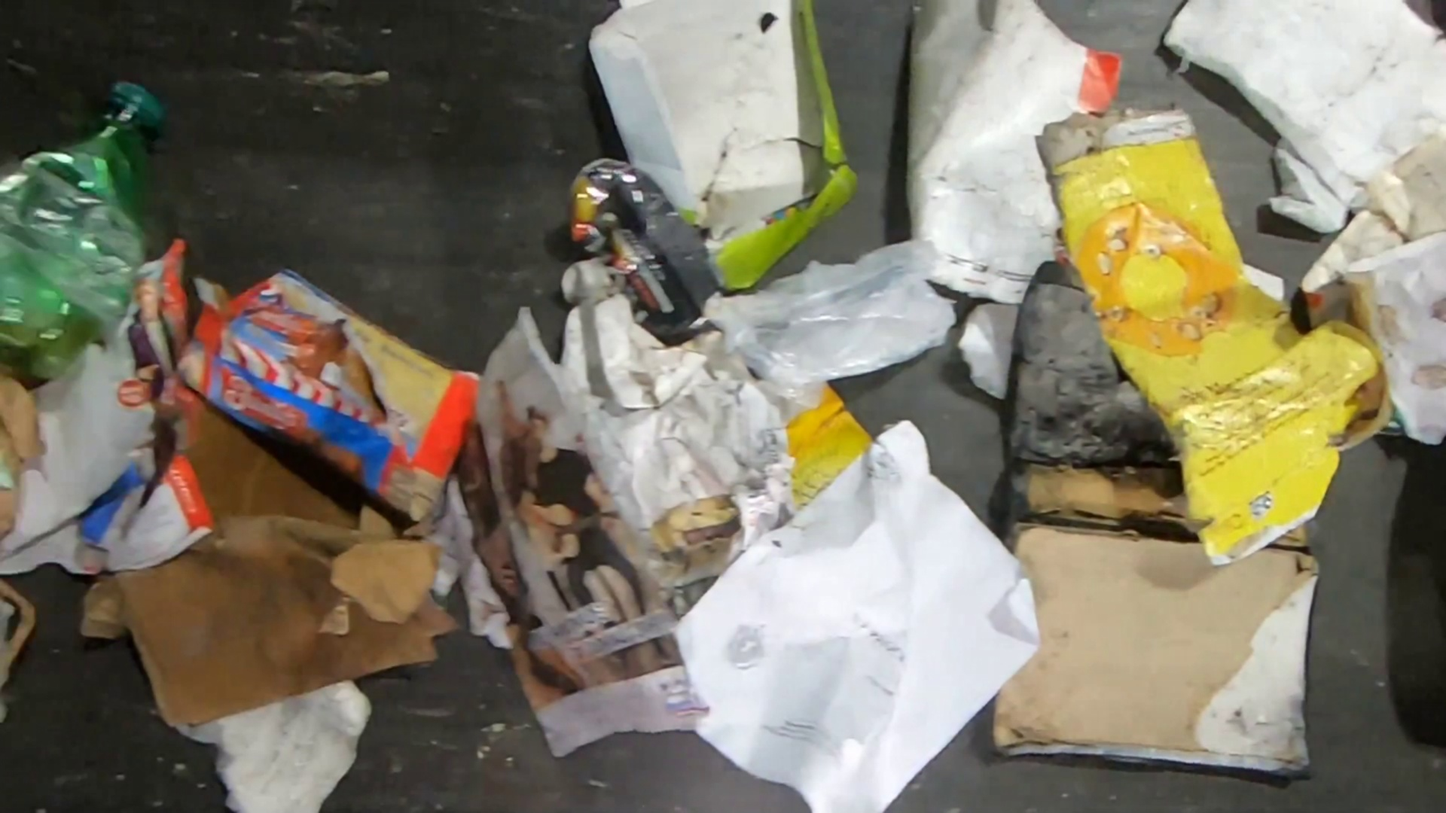cardboard: (1034, 105, 1397, 566), (74, 390, 461, 728), (991, 522, 1323, 776), (174, 267, 487, 522), (987, 259, 1200, 555), (1269, 523, 1311, 553)
metal: (567, 156, 726, 347)
plastic: (587, 0, 859, 293), (0, 77, 172, 384), (701, 237, 959, 408)
